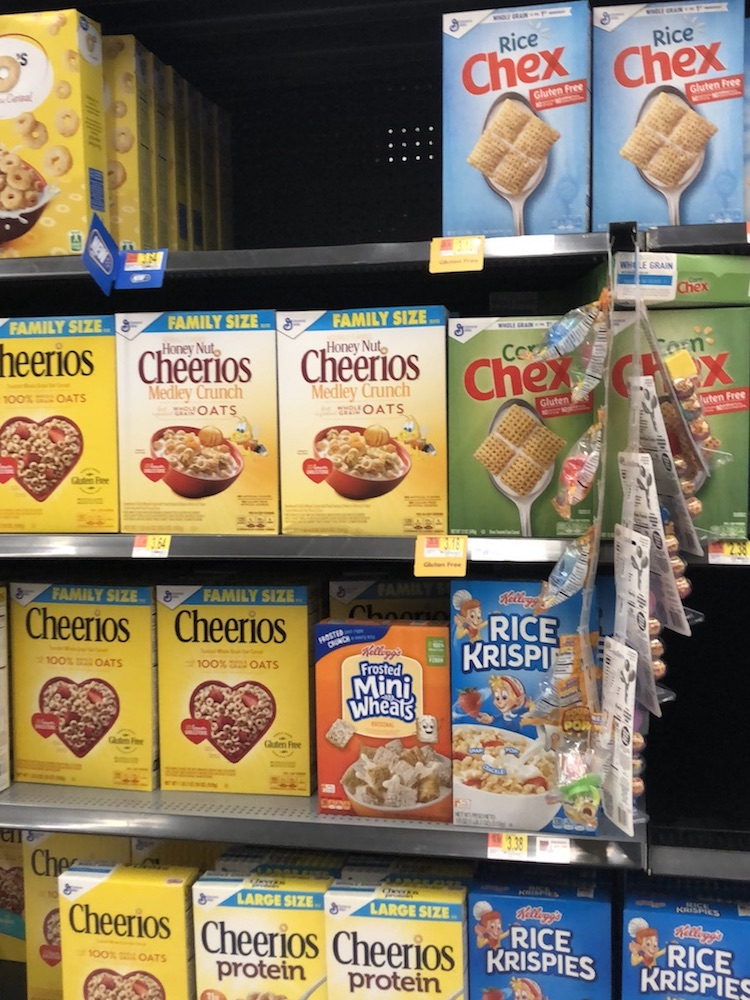Frosted Mini Original -9295869: (313, 627, 454, 823)
